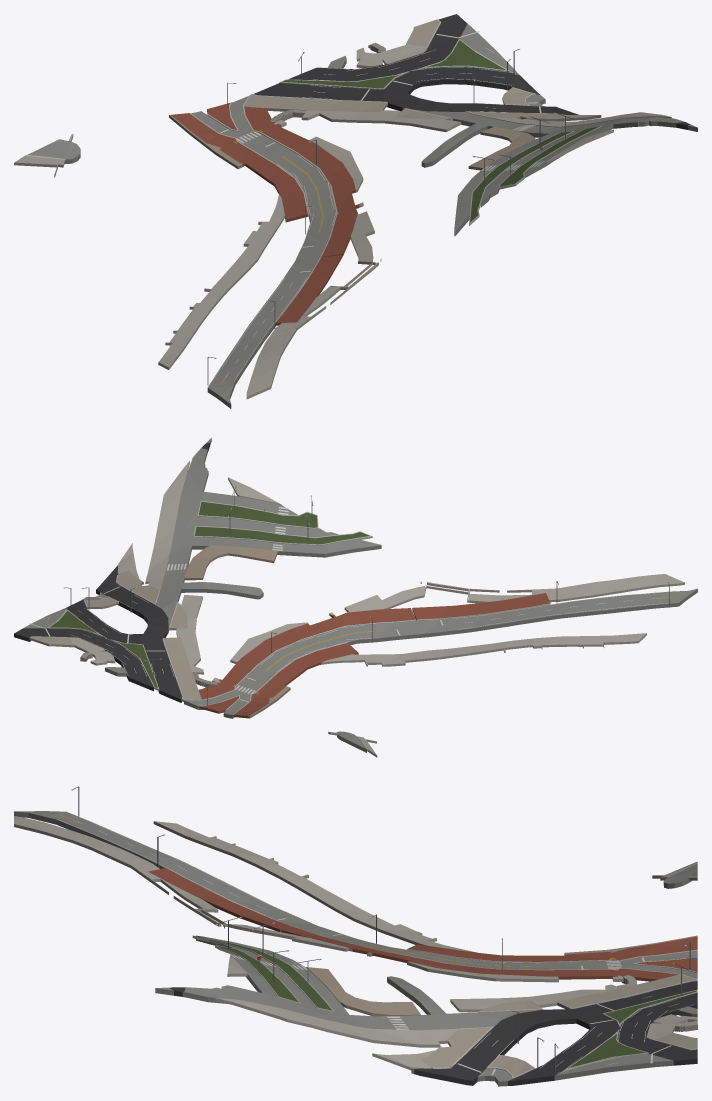
3 renders of one model, top to bottom at view 1: azimuth 30°, elevation 25°; view 2: azimuth 150°, elevation 25°; view 3: azimuth 270°, elevation 25°, orthographic. The views are drawn at different scales.
Bounding box in the file's own units: 147 × 30.4 × 146.
